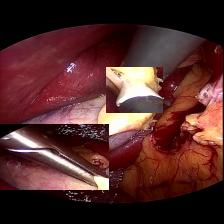Grasper: (0, 123, 109, 189)
Hook: (106, 66, 163, 112)
